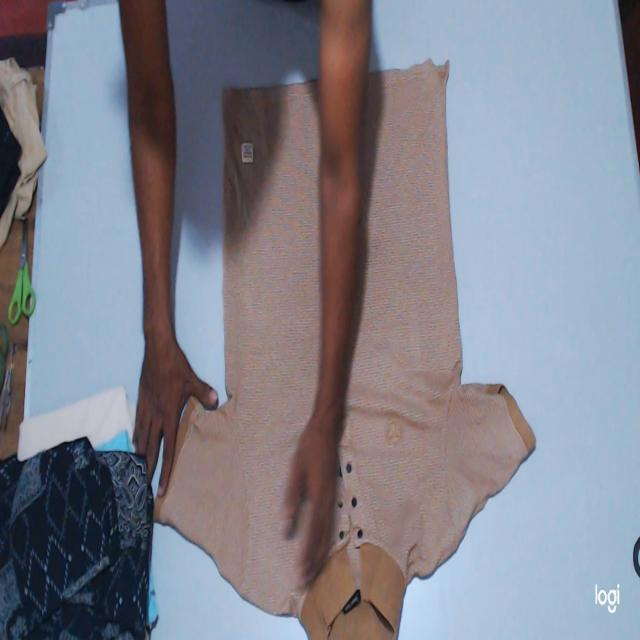new-garment: (158, 60, 535, 639)
